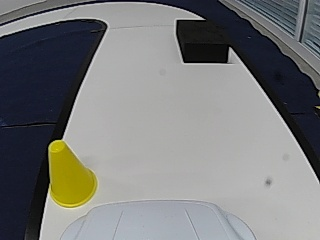block: (175, 19, 227, 62)
cone: (49, 140, 98, 206)
